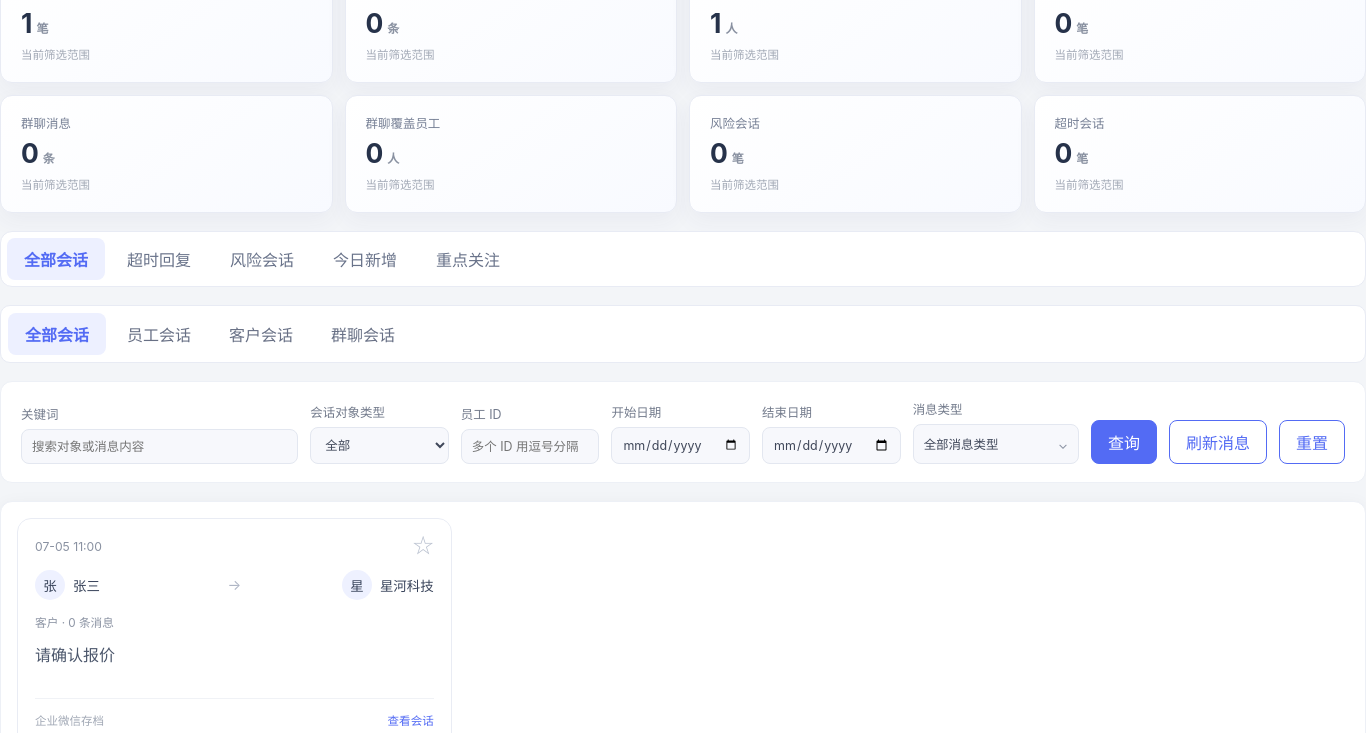
Test: ConversationGlobalPage › writes submitted filters to the URL and resets pagination
The image size is (1366, 733).
Expected: the text "星河科技" is shown, x1=380 y1=575 x2=434 y2=595
Type "续约" into the field labelled "关键词" at (160, 446), box x1=21 y1=429 x2=298 y2=464
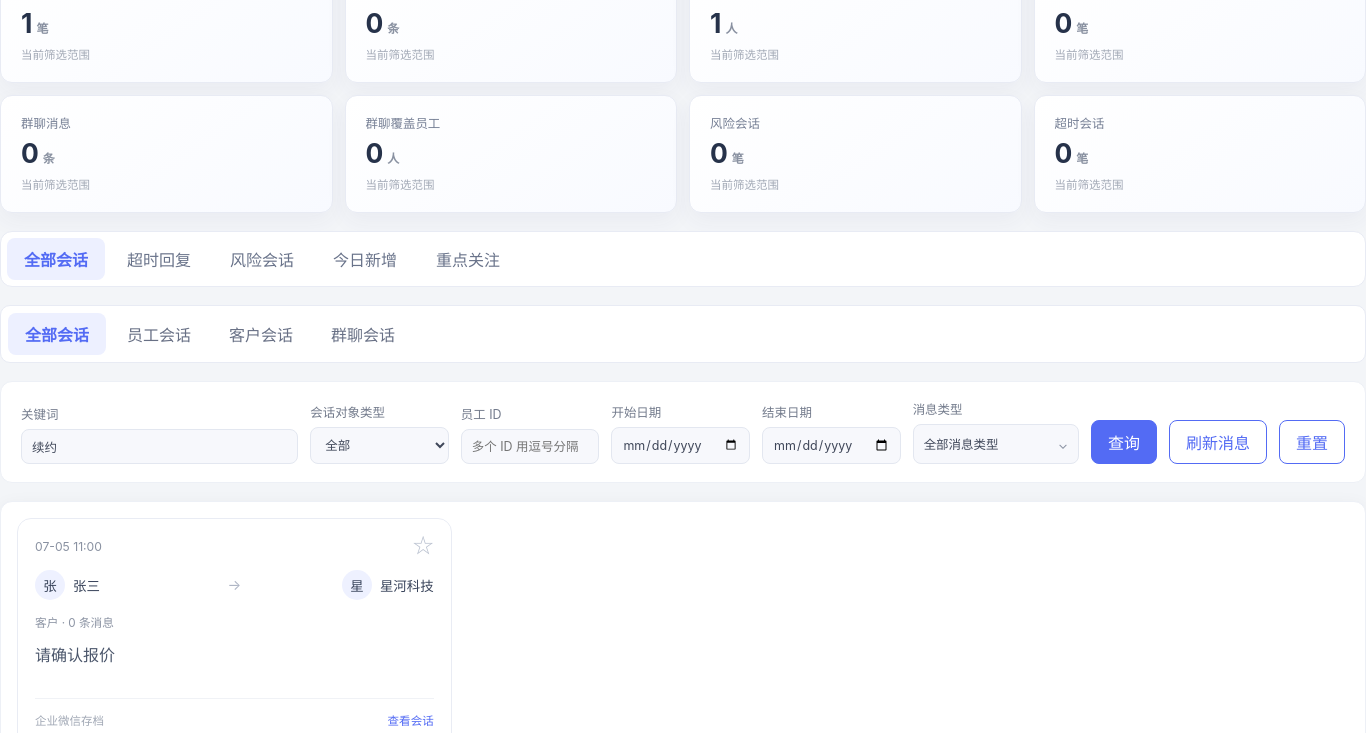
Select "群聊" in the dropdown labelled "会话对象类型" at (380, 446), box x1=310 y1=427 x2=449 y2=464
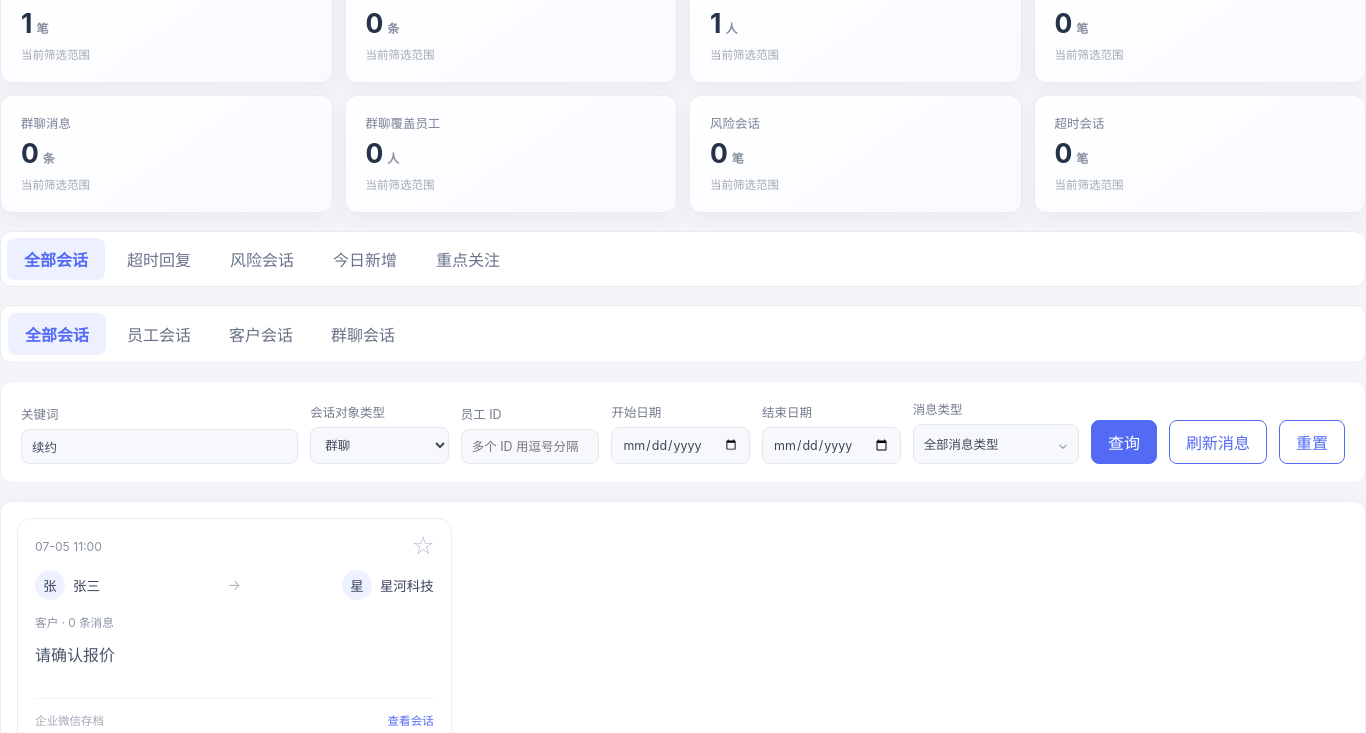
Type "12,15" into the field labelled "员工 ID" at (530, 446), box x1=461 y1=429 x2=599 y2=464
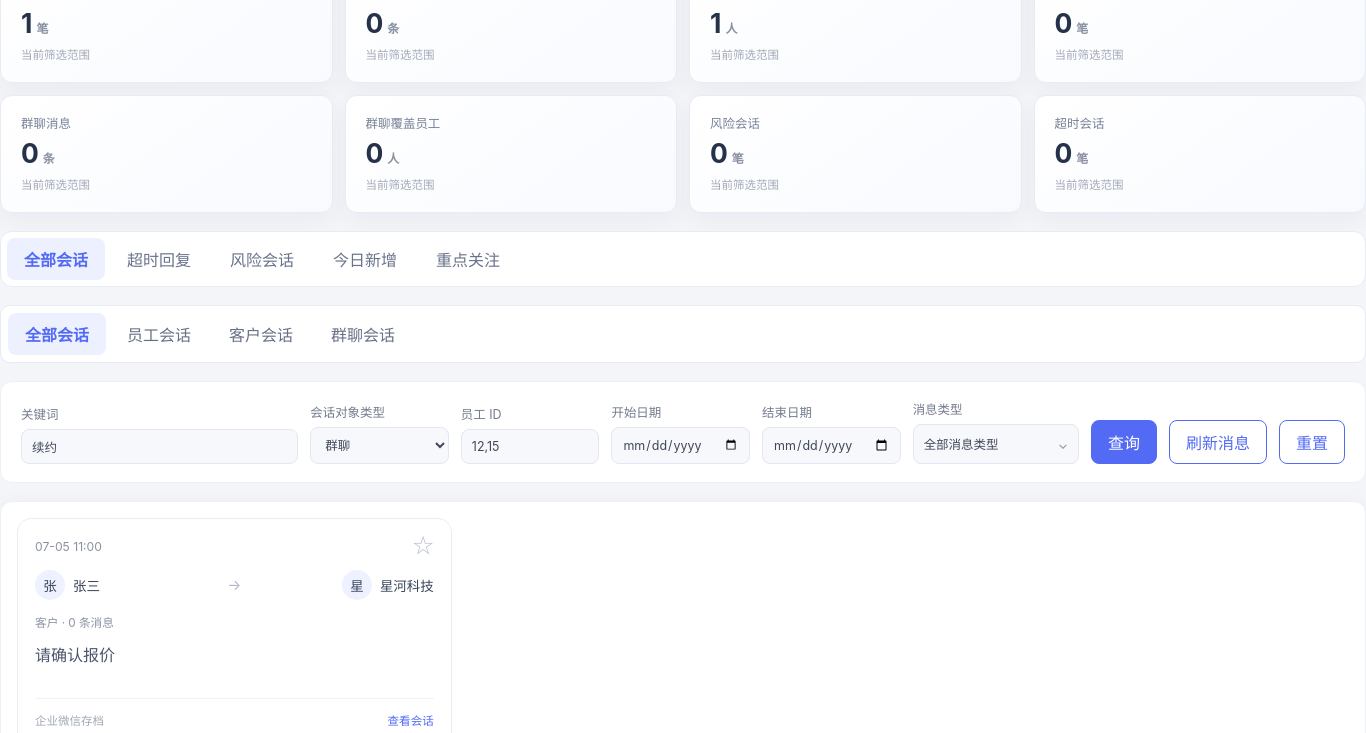
Click the button "查询" at (1124, 442), box x1=1091 y1=420 x2=1157 y2=464
(page scrolled)
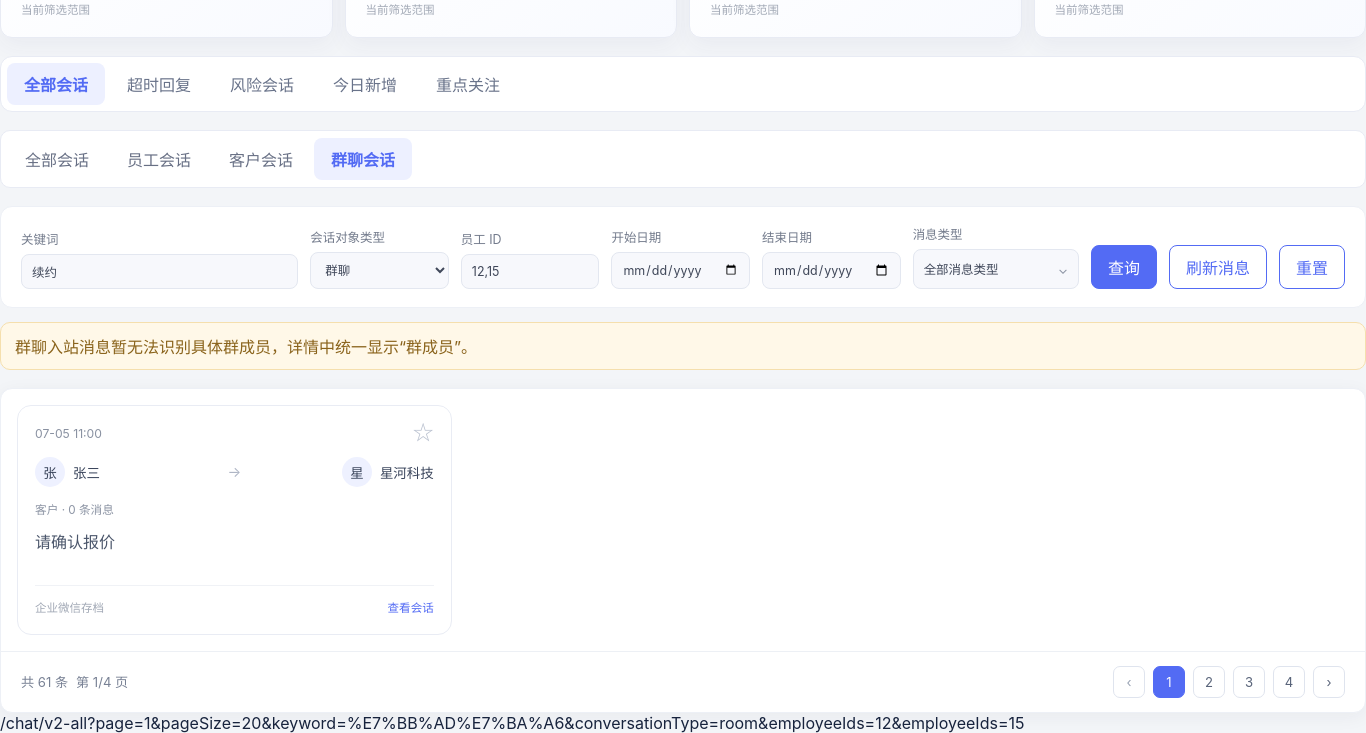
Now the text named "当前地址" shows "keyword=%E7%BB%AD%E7%BA%A6", box x1=87 y1=713 x2=1024 y2=732
Now the text named "当前地址" shows "conversationType=room", box x1=87 y1=713 x2=1024 y2=732
Now the text named "当前地址" shows "employeeIds=12", box x1=87 y1=713 x2=1024 y2=732
